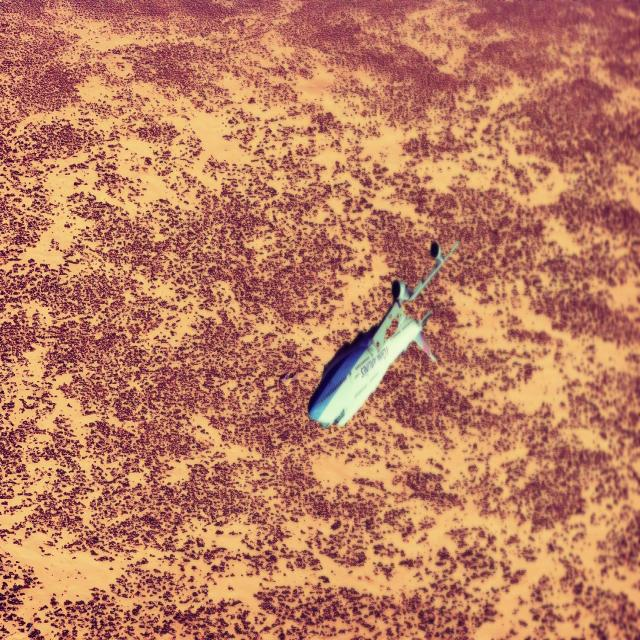airplane: (307, 238, 459, 430)
